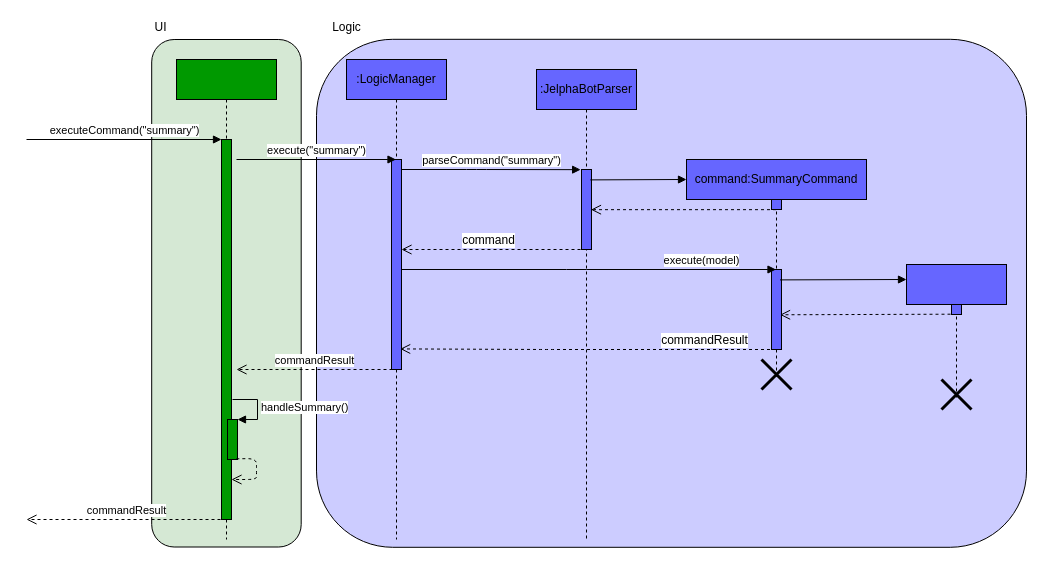
This 1044x565 diagram has some shape labels left out. Here are the shapes that lost their labels. From the top down, the box of each, then its label:
(176, 58, 276, 540): :MainWindow
(906, 264, 1006, 400): :CommandResult
